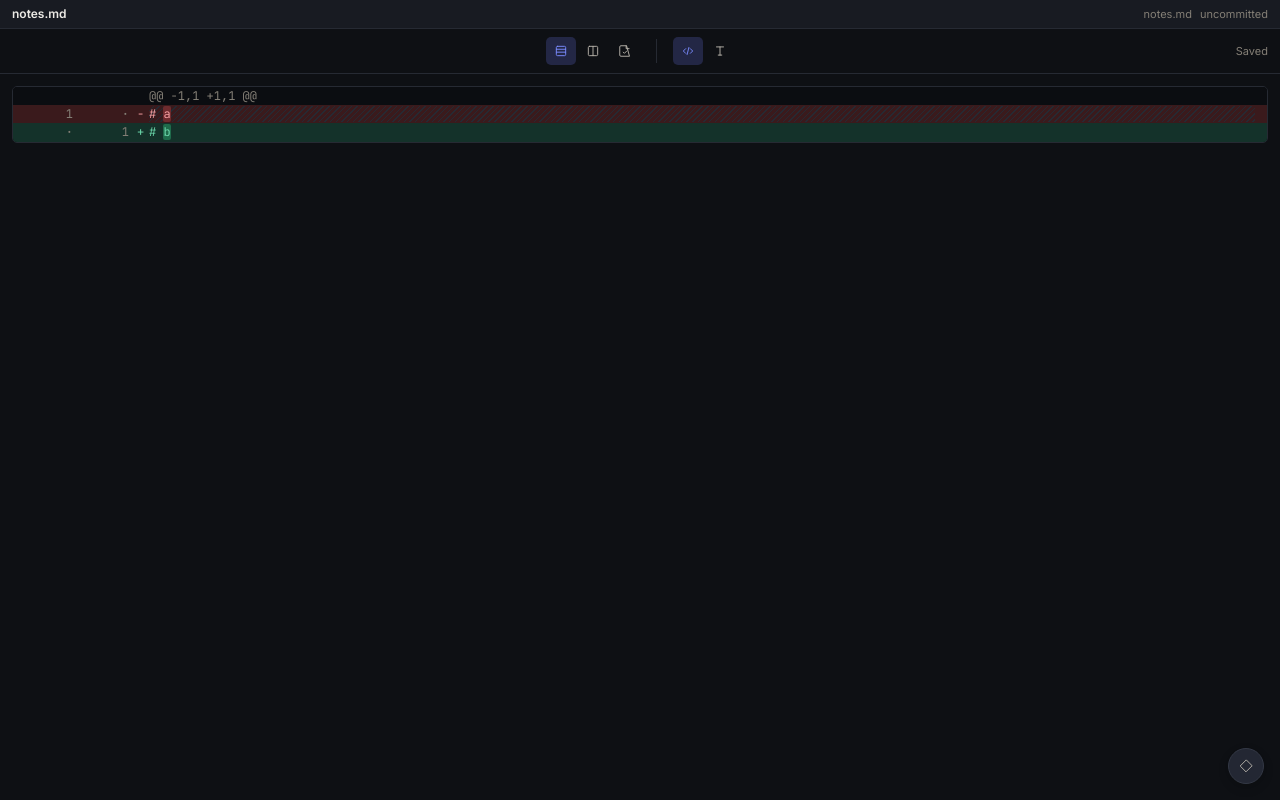
Mode persistence and reach (DFV-FR-23 / DFV-FR-24) › leaves a non-Markdown tab on Source when Rich is activated elsewhere (DFV-FR-18 / DFV-FR-24)
The image size is (1280, 800).
Click the radio button named "Rich".
click(720, 51)  # box [704,37,734,65]
(page scrolled)
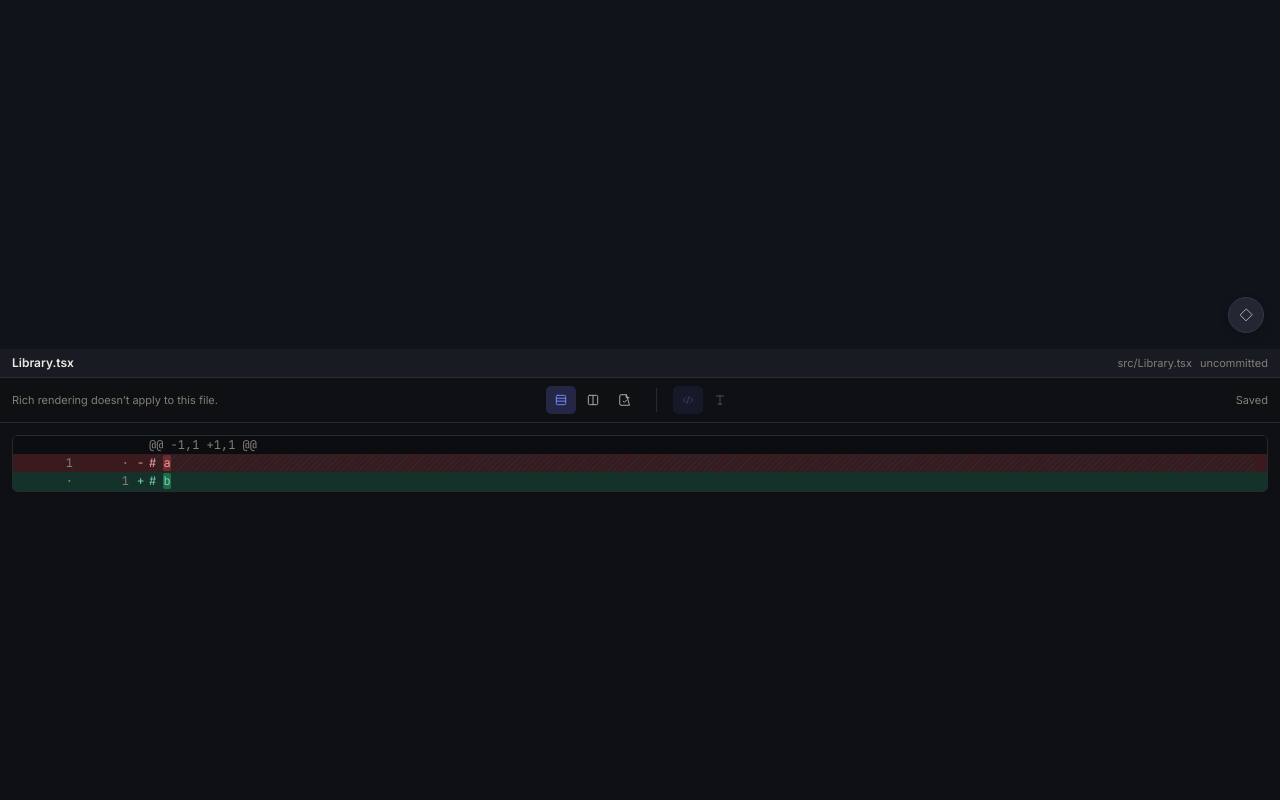
Result: the radio button named "Rich" is disabled at [704,386,734,414]
